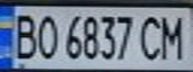3: (97, 11, 118, 61)
6: (60, 11, 84, 61)
7: (115, 11, 139, 61)
8: (78, 11, 100, 61)
B: (6, 9, 39, 61)
C: (136, 11, 166, 61)
M: (157, 11, 190, 61)
O: (33, 10, 60, 61)
